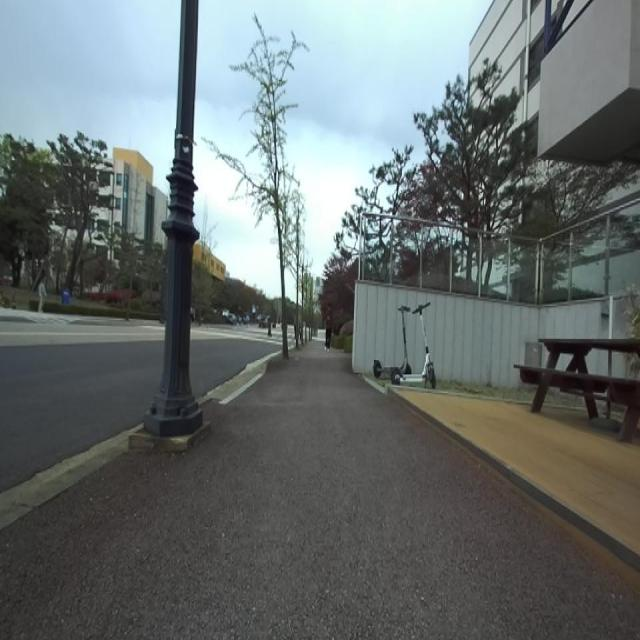sidewalk: (0, 343, 640, 639)
